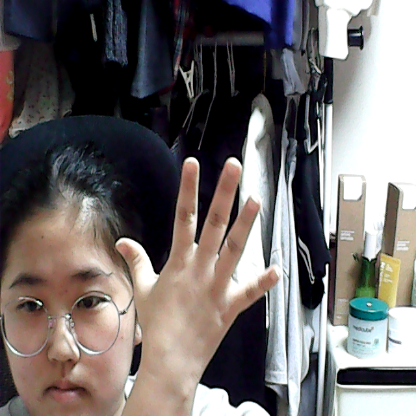Finger_5: (109, 138, 285, 375)
